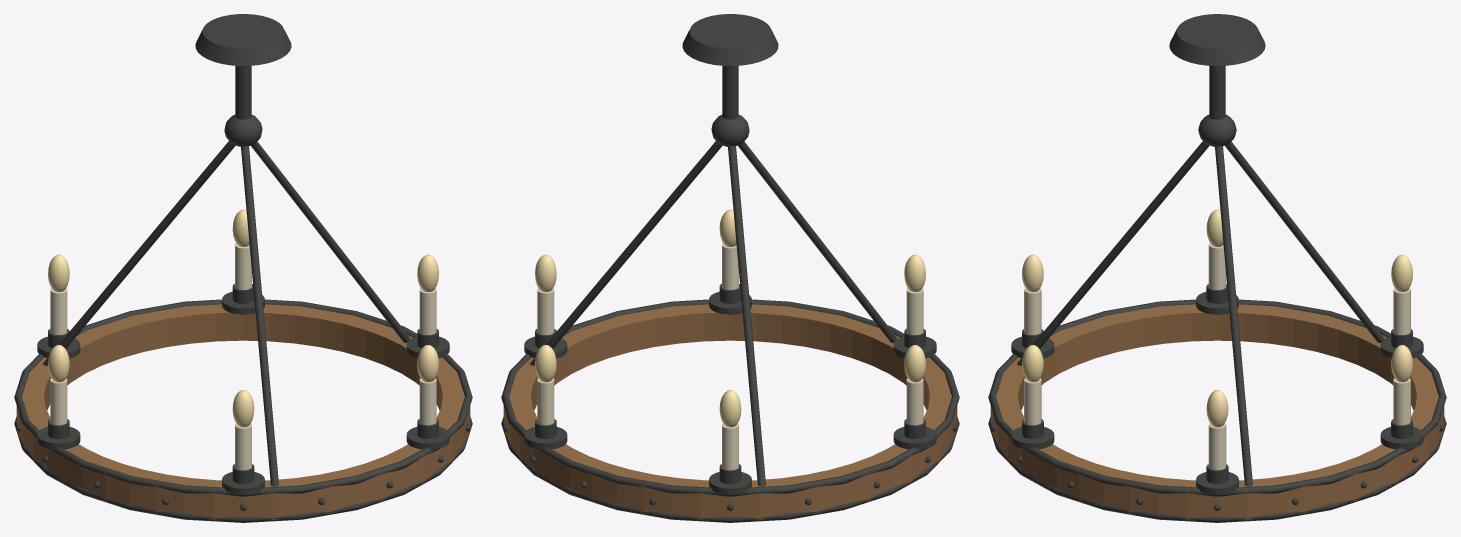
The model's file is chandelier_rustic_ring.glb.
The picture shows the model from 3 angles, left to right: view 1: azimuth 30°, elevation 25°; view 2: azimuth 150°, elevation 25°; view 3: azimuth 270°, elevation 25°; orthographic projection.
Visible parts, largest first — view 1: Solid oak chandelier wheel, Iron hoop band.001, Ceiling canopy, Diagonal suspension rod 3, Iron hoop band, Diagonal suspension rod 2, Diagonal suspension rod 1, Three-way suspension hub, Short upper suspension stem, Rustic lamp 4 ivory candle sleeve, Rustic lamp 6 ivory candle sleeve, Rustic lamp 3 ivory candle sleeve (+11 smaller); view 2: Solid oak chandelier wheel, Iron hoop band.001, Ceiling canopy, Diagonal suspension rod 2, Iron hoop band, Diagonal suspension rod 1, Diagonal suspension rod 3, Three-way suspension hub, Short upper suspension stem, Rustic lamp 4 ivory candle sleeve, Rustic lamp 2 ivory candle sleeve, Rustic lamp 5 ivory candle sleeve (+11 smaller); view 3: Solid oak chandelier wheel, Iron hoop band.001, Ceiling canopy, Diagonal suspension rod 1, Iron hoop band, Diagonal suspension rod 3, Diagonal suspension rod 2, Three-way suspension hub, Short upper suspension stem, Rustic lamp 1 ivory candle sleeve, Rustic lamp 2 ivory candle sleeve, Rustic lamp 6 ivory candle sleeve (+11 smaller).
Boxes of the visible parts, left/top/right/bottom form: Solid oak chandelier wheel: left=16, top=304, right=470, bottom=520; Iron hoop band.001: left=14, top=299, right=472, bottom=496; Ceiling canopy: left=195, top=14, right=291, bottom=65; Diagonal suspension rod 3: left=241, top=146, right=278, bottom=486; Iron hoop band: left=14, top=417, right=472, bottom=522; Diagonal suspension rod 2: left=43, top=141, right=235, bottom=365; Diagonal suspension rod 1: left=251, top=141, right=410, bottom=342; Three-way suspension hub: left=224, top=115, right=262, bottom=146; Short upper suspension stem: left=235, top=65, right=251, bottom=119; Rustic lamp 4 ivory candle sleeve: left=50, top=378, right=67, bottom=425; Rustic lamp 6 ivory candle sleeve: left=419, top=378, right=436, bottom=425; Rustic lamp 3 ivory candle sleeve: left=50, top=288, right=67, bottom=334; Solid oak chandelier wheel: left=503, top=304, right=957, bottom=520; Iron hoop band.001: left=501, top=299, right=959, bottom=496; Ceiling canopy: left=682, top=14, right=778, bottom=65; Diagonal suspension rod 2: left=728, top=146, right=765, bottom=486; Iron hoop band: left=501, top=417, right=959, bottom=522; Diagonal suspension rod 1: left=530, top=141, right=722, bottom=365; Diagonal suspension rod 3: left=738, top=141, right=897, bottom=342; Three-way suspension hub: left=711, top=115, right=749, bottom=146; Short upper suspension stem: left=722, top=65, right=738, bottom=119; Rustic lamp 4 ivory candle sleeve: left=906, top=378, right=923, bottom=425; Rustic lamp 2 ivory candle sleeve: left=537, top=378, right=554, bottom=425; Rustic lamp 5 ivory candle sleeve: left=906, top=288, right=923, bottom=334; Solid oak chandelier wheel: left=990, top=304, right=1444, bottom=520; Iron hoop band.001: left=988, top=299, right=1446, bottom=496; Ceiling canopy: left=1169, top=14, right=1265, bottom=66; Diagonal suspension rod 1: left=1215, top=146, right=1252, bottom=486; Iron hoop band: left=988, top=417, right=1446, bottom=522; Diagonal suspension rod 3: left=1017, top=141, right=1209, bottom=365; Diagonal suspension rod 2: left=1225, top=141, right=1384, bottom=342; Three-way suspension hub: left=1198, top=114, right=1236, bottom=146; Short upper suspension stem: left=1209, top=66, right=1225, bottom=119; Rustic lamp 1 ivory candle sleeve: left=1208, top=423, right=1226, bottom=470; Rustic lamp 2 ivory candle sleeve: left=1393, top=378, right=1410, bottom=425; Rustic lamp 6 ivory candle sleeve: left=1024, top=378, right=1041, bottom=425.
Bounding box in the file's own units: 1.02 × 0.9523 × 1.
